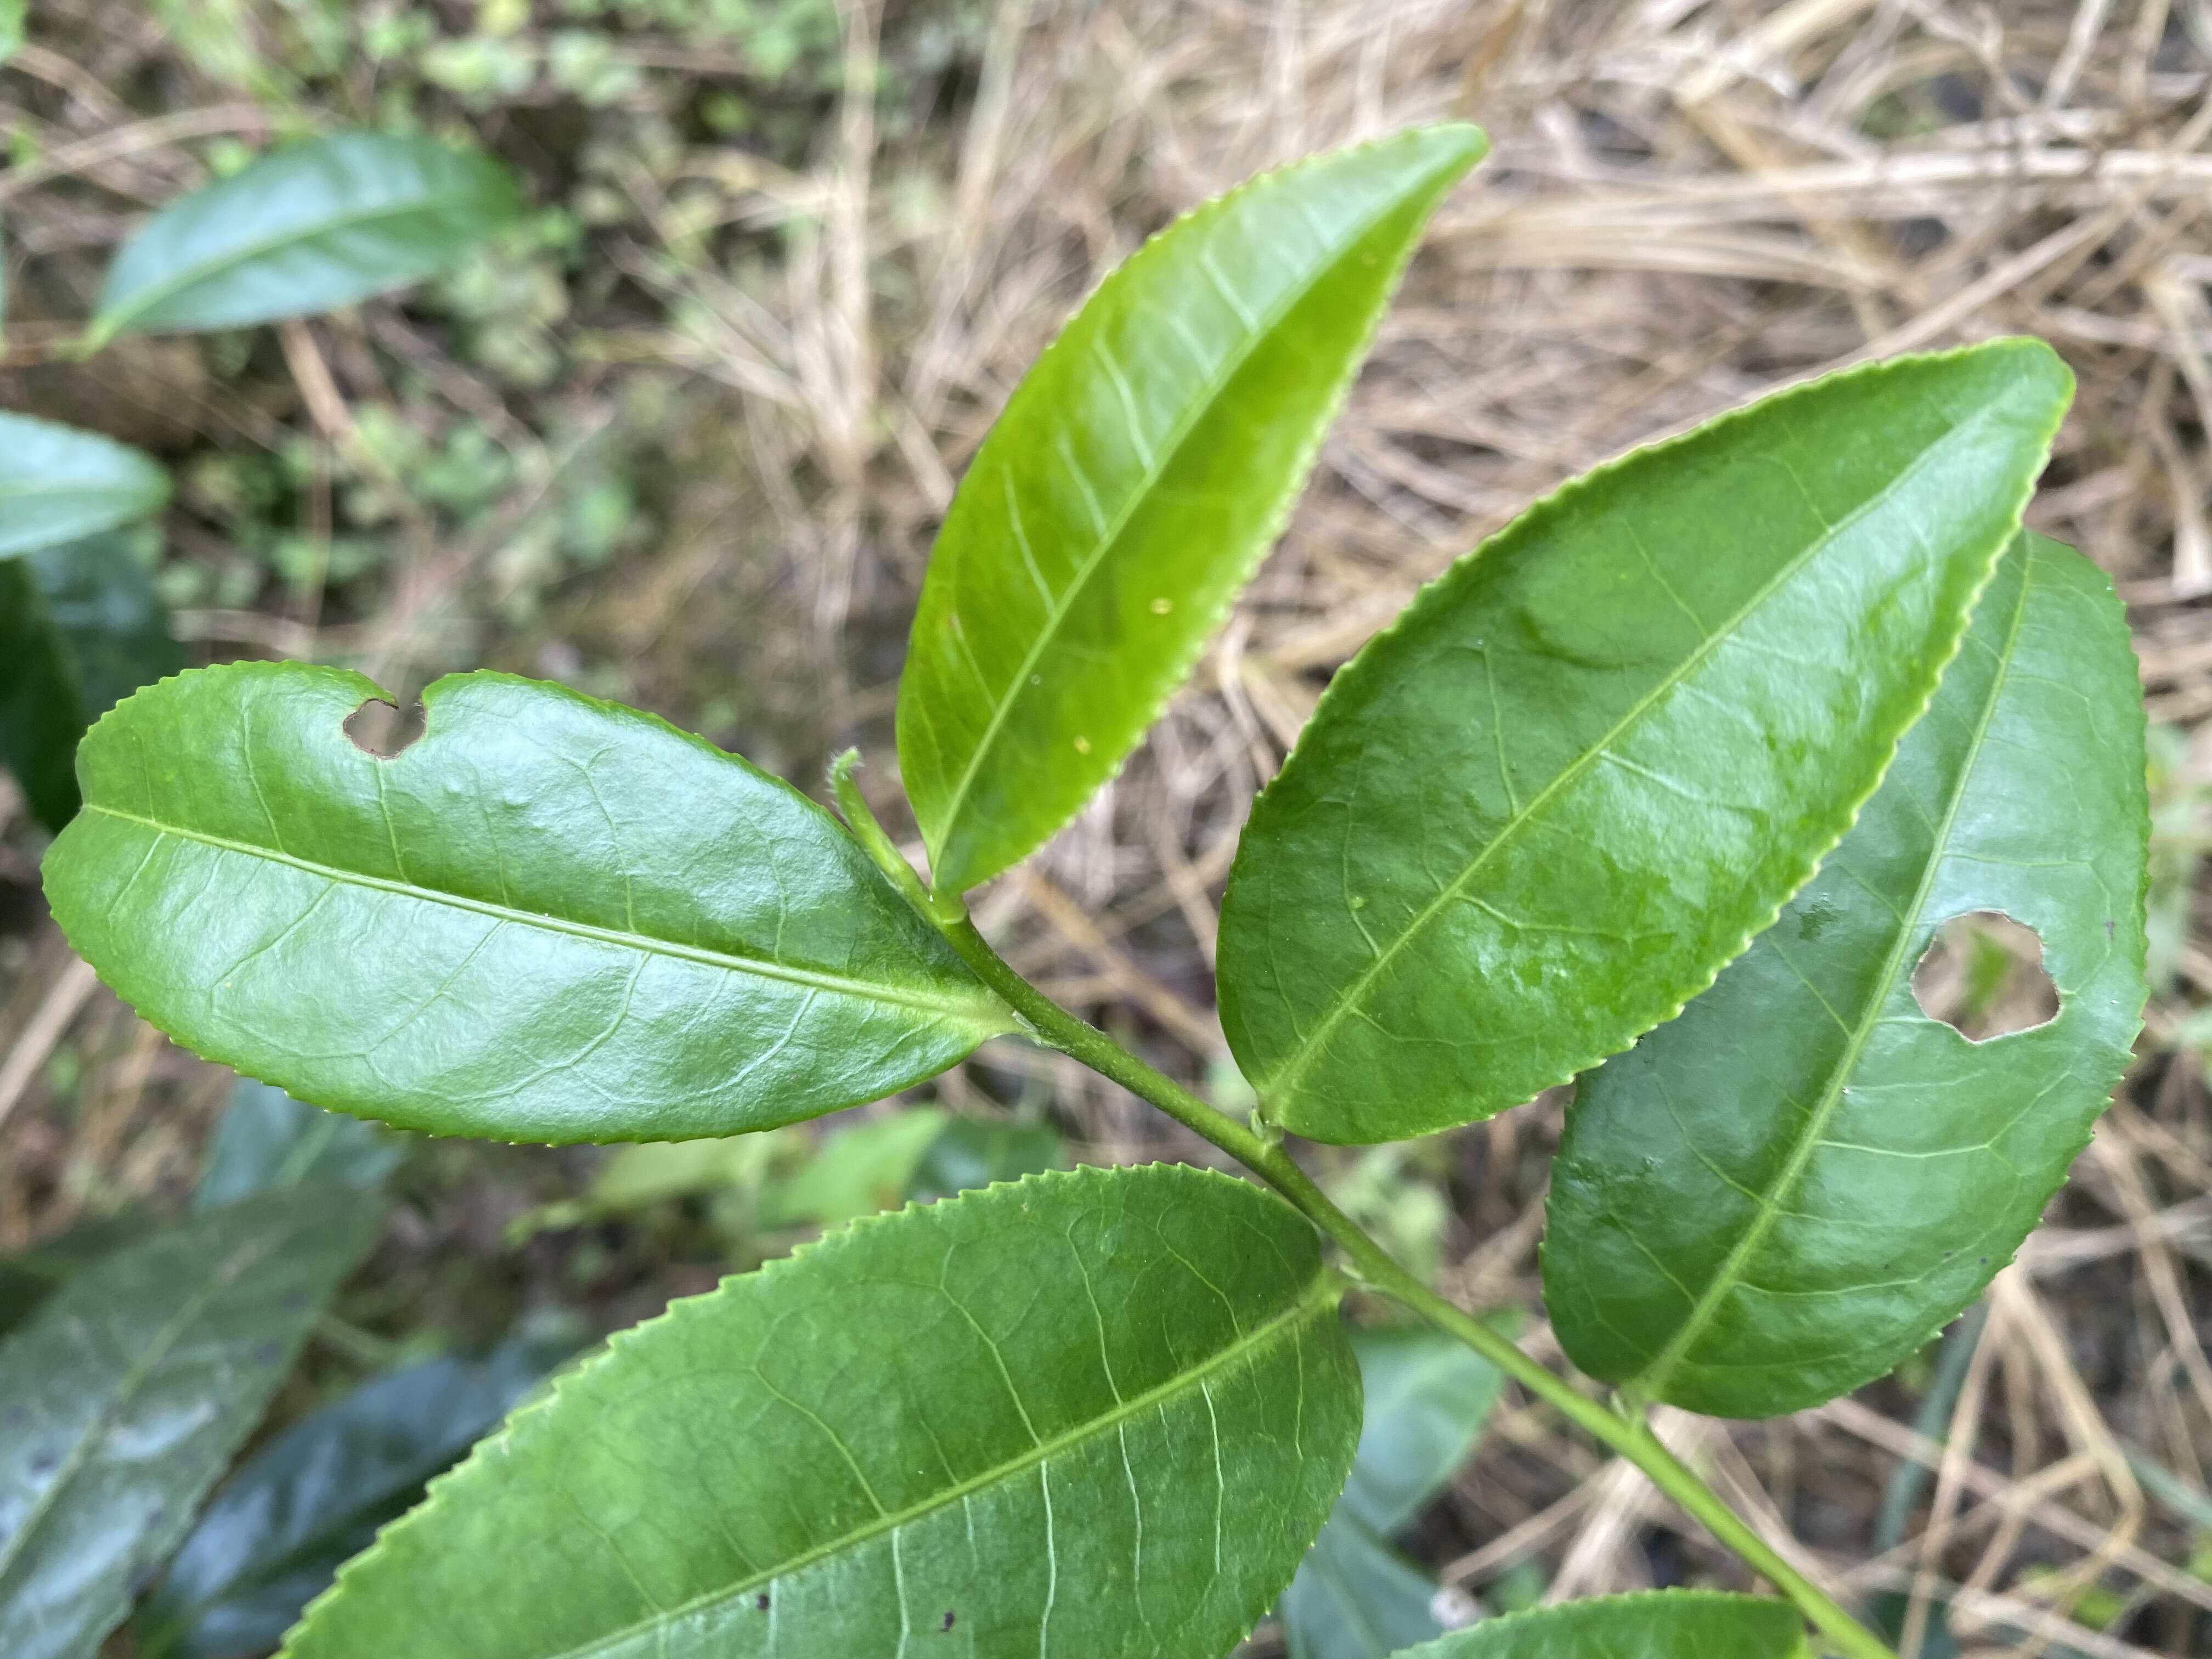chihuo_low: (1538, 526, 2153, 1420), (35, 655, 996, 1154)
healthy: (1212, 335, 2081, 1148), (895, 124, 1486, 897)
